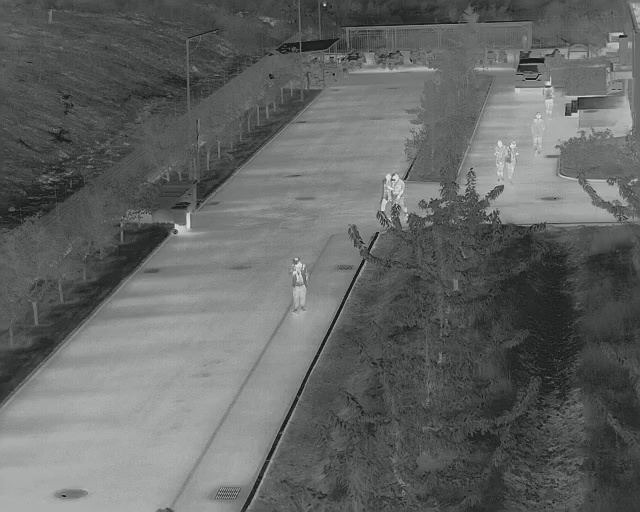person: (290, 257, 306, 314), (391, 170, 405, 212), (380, 173, 393, 214), (534, 112, 545, 158), (507, 142, 518, 182), (541, 82, 553, 114), (496, 140, 504, 180)
vehicle: (515, 58, 549, 95)
